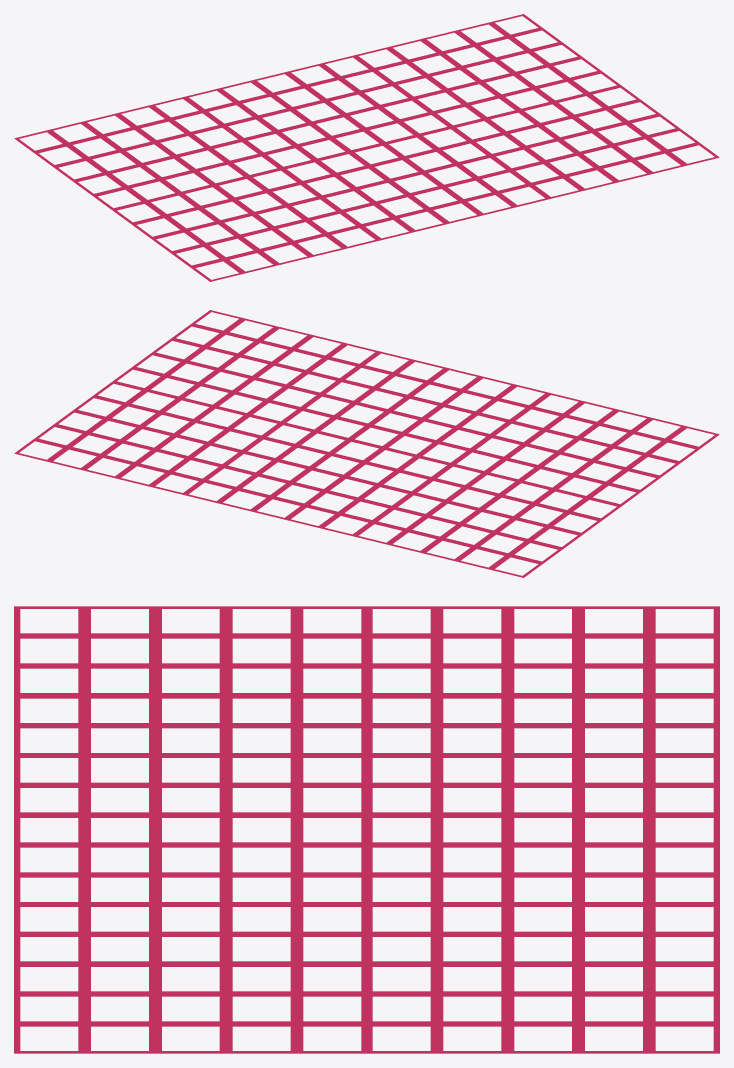
File: deform2.gltf
3 renders of one model, top to bottom at view 1: azimuth 30°, elevation 25°; view 2: azimuth 150°, elevation 25°; view 3: azimuth 270°, elevation 25°, orthographic. The views are drawn at different scales.
Visible parts, largest first — view 1: Plane.003, Plane.011, Plane.010, Plane.009, Plane.013, Plane.012; view 2: Plane.003, Plane.009, Plane.010, Plane.011, Plane.012, Plane.013; view 3: Plane.003, Plane.009, Plane.011, Plane.012, Plane.010, Plane.013.
Boxes of the visible parts, x1=… form: Plane.003: x1=14, y1=97, x2=281, y2=210; Plane.011: x1=113, y1=168, x2=379, y2=281; Plane.010: x1=354, y1=14, x2=621, y2=126; Plane.009: x1=184, y1=55, x2=451, y2=168; Plane.013: x1=452, y1=86, x2=719, y2=198; Plane.012: x1=283, y1=127, x2=549, y2=240; Plane.003: x1=354, y1=464, x2=621, y2=577; Plane.009: x1=184, y1=423, x2=450, y2=536; Plane.010: x1=14, y1=381, x2=281, y2=494; Plane.011: x1=452, y1=393, x2=719, y2=505; Plane.012: x1=282, y1=351, x2=549, y2=464; Plane.013: x1=112, y1=310, x2=379, y2=422; Plane.003: x1=366, y1=606, x2=719, y2=755; Plane.009: x1=366, y1=755, x2=719, y2=904; Plane.011: x1=14, y1=606, x2=367, y2=755; Plane.012: x1=14, y1=755, x2=367, y2=904; Plane.010: x1=366, y1=904, x2=719, y2=1053; Plane.013: x1=14, y1=904, x2=367, y2=1053.
Bounding box in the file's own units: 1.86 × 0 × 1.24.
